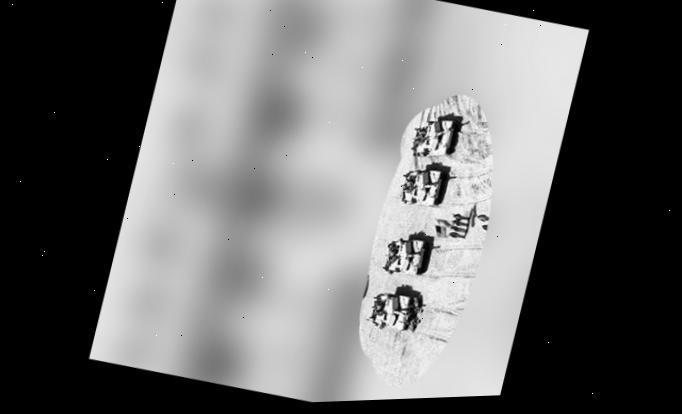tank: (362, 285, 425, 338), (406, 109, 460, 167), (378, 232, 432, 286), (395, 163, 446, 213)
